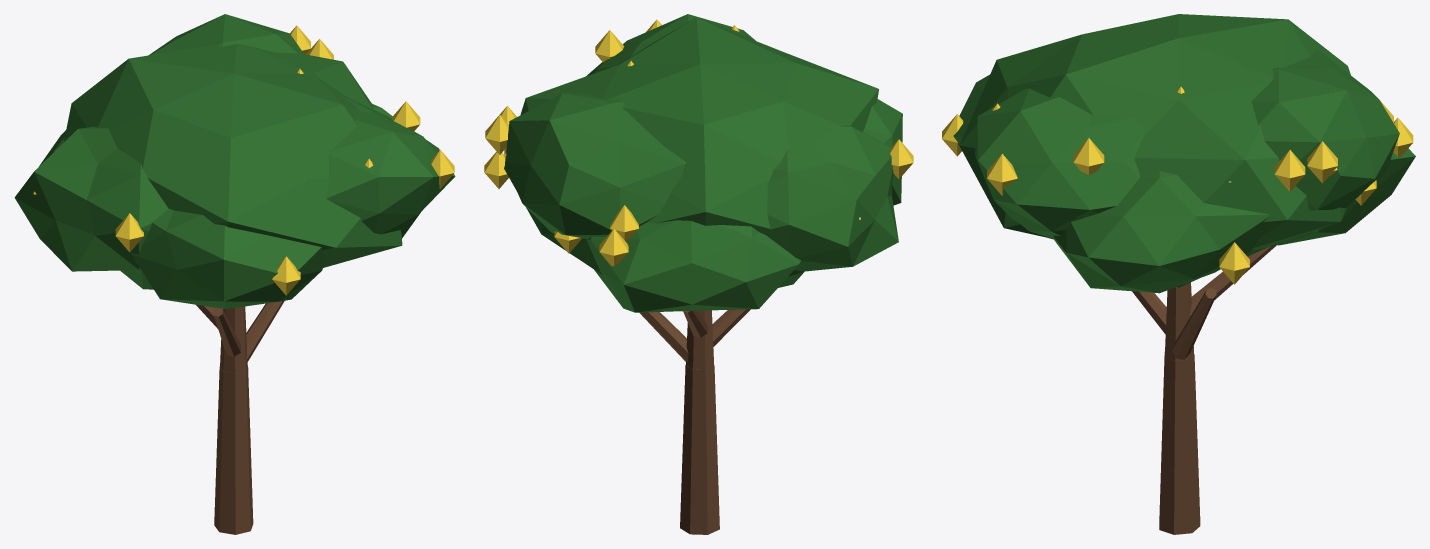
The model's file is lemon_tree.glb.
3 views of the same model, side by side, from view 1: azimuth 30°, elevation 25°; view 2: azimuth 150°, elevation 25°; view 3: azimuth 270°, elevation 25° (orthographic). The views are drawn at different scales.
Visible parts, largest first — view 1: lemon_tree; view 2: lemon_tree; view 3: lemon_tree.
Part boxes in pixels (left/top/right/bottom): lemon_tree: left=14, top=14, right=455, bottom=534; lemon_tree: left=484, top=14, right=913, bottom=534; lemon_tree: left=942, top=14, right=1415, bottom=534.
Bounding box in the file's own units: 2.39 × 2.73 × 2.41.
